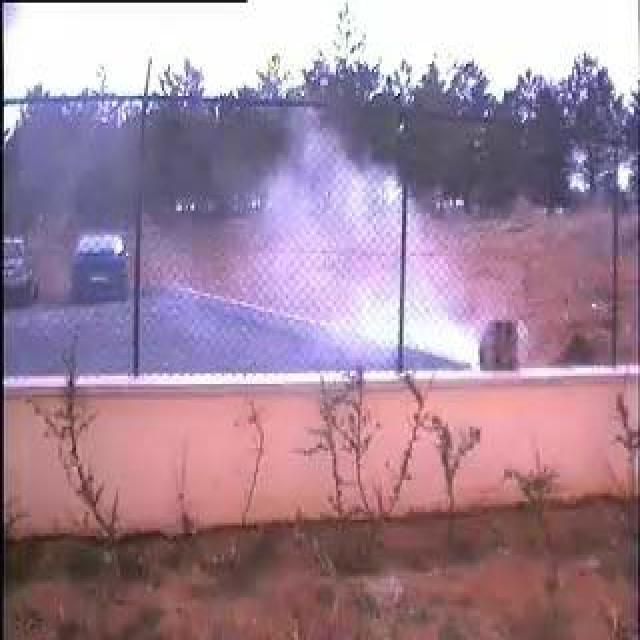Smoke: (270, 129, 516, 372)
